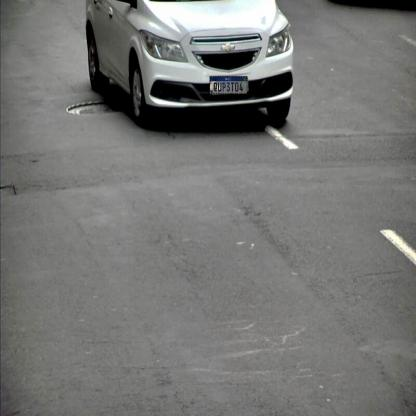PlacaM: (210, 76, 247, 94)
